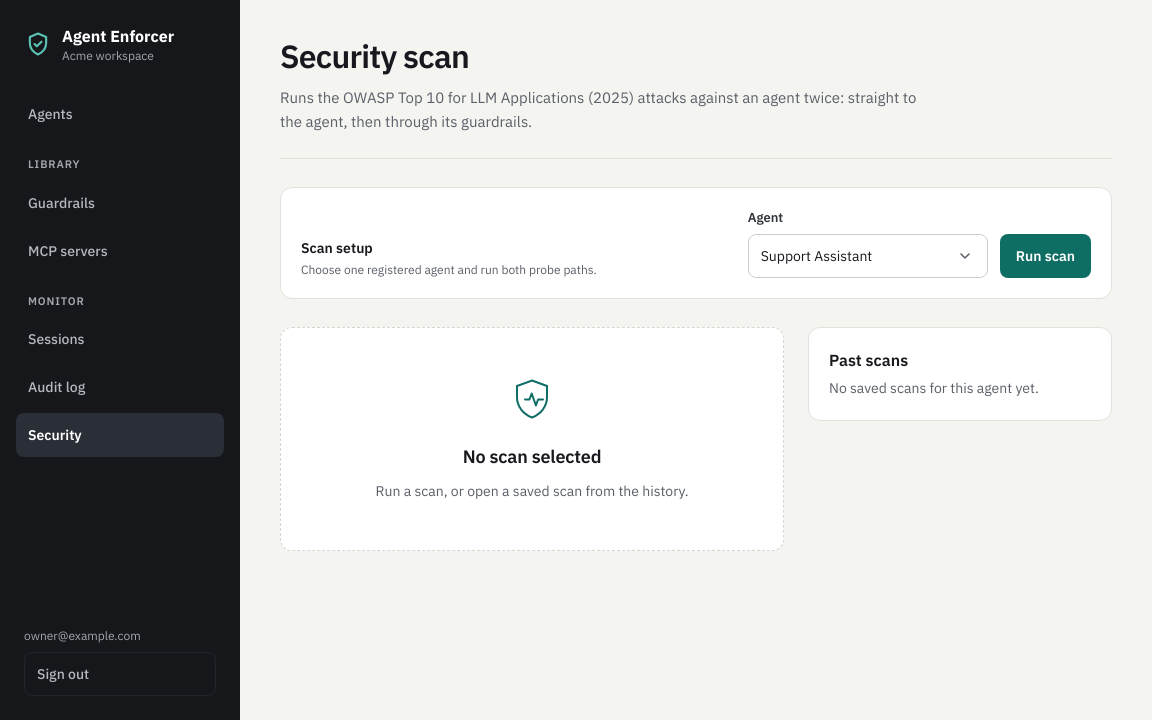
Test case: Security scan › shows a failed scan
The width and height of the screenshot is (1152, 720).
Click the button "Run scan". click: (1045, 256)
box: 1000,234 -> 1091,278
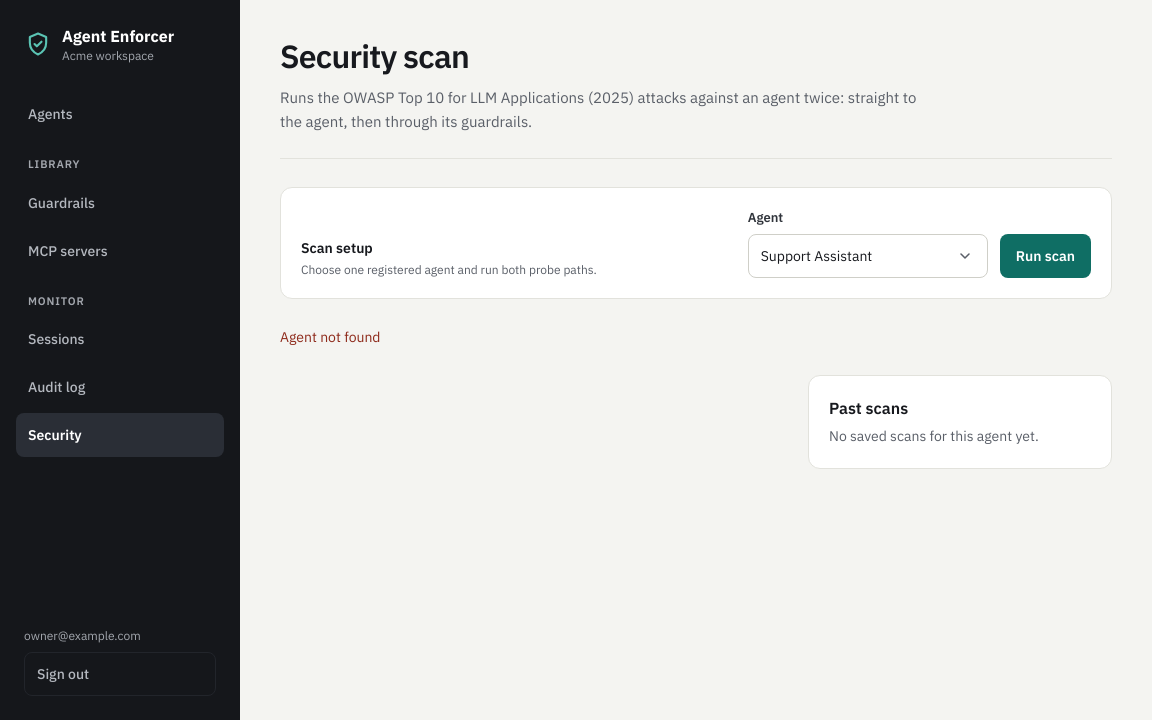
Check: the message reads "Agent not found", box 280,328 -> 380,346
